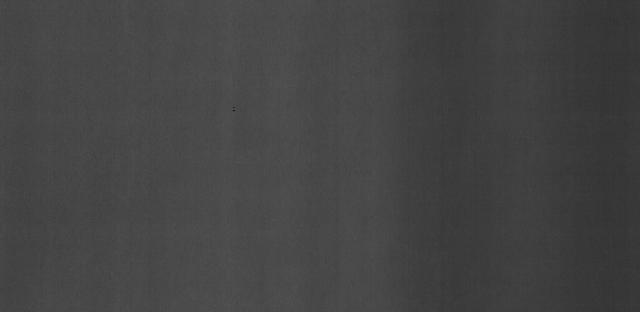inclusion: (227, 101, 238, 114)
